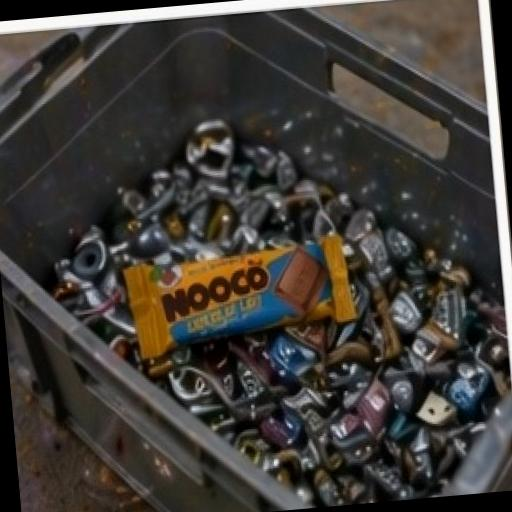biscuit-detection: (90, 206, 394, 372)
